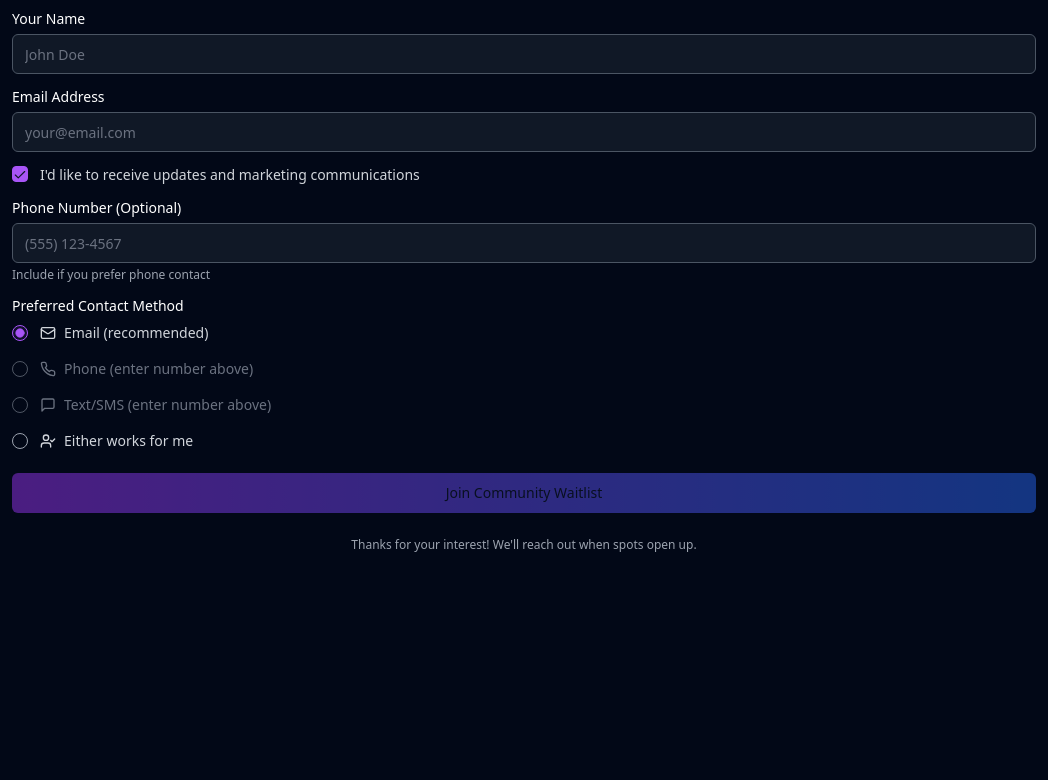
Test: CommunityWaitlistForm › handles database constraint violation error gracefully
Note: Fill out the form
Type "Test User" into the field labelled "Your Name" at {"x": 524, "y": 54}, box [12, 34, 1036, 74]
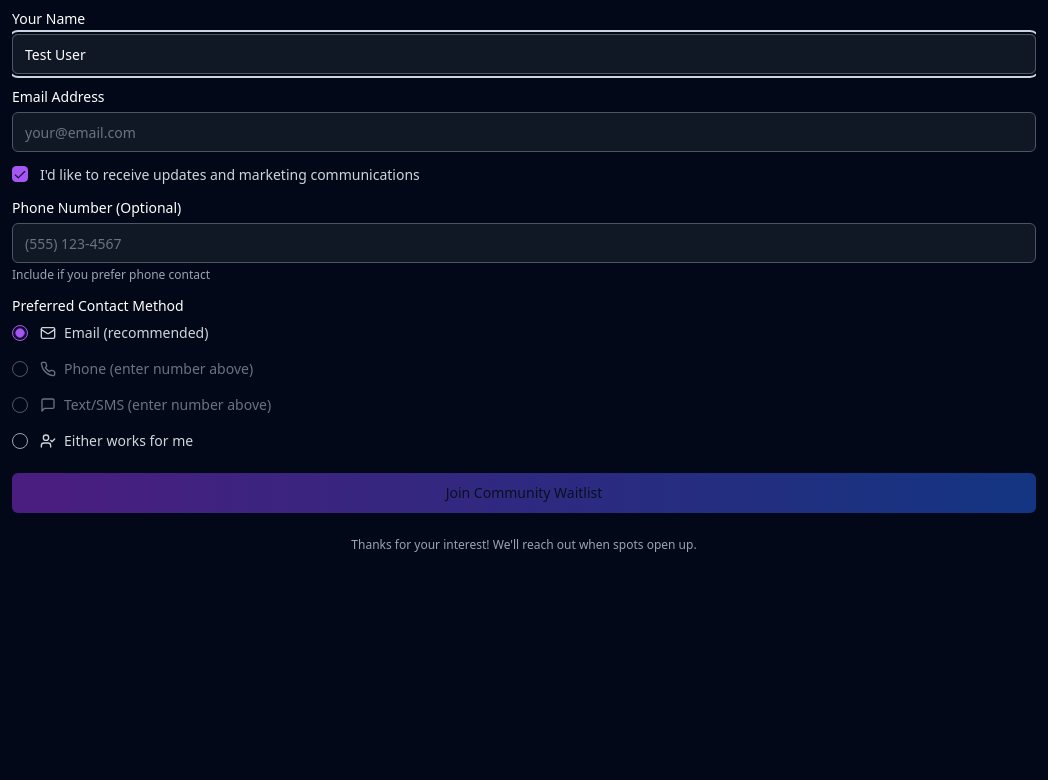
Type "test@example.com" into the field labelled "Email Address" at {"x": 524, "y": 132}, box [12, 112, 1036, 152]
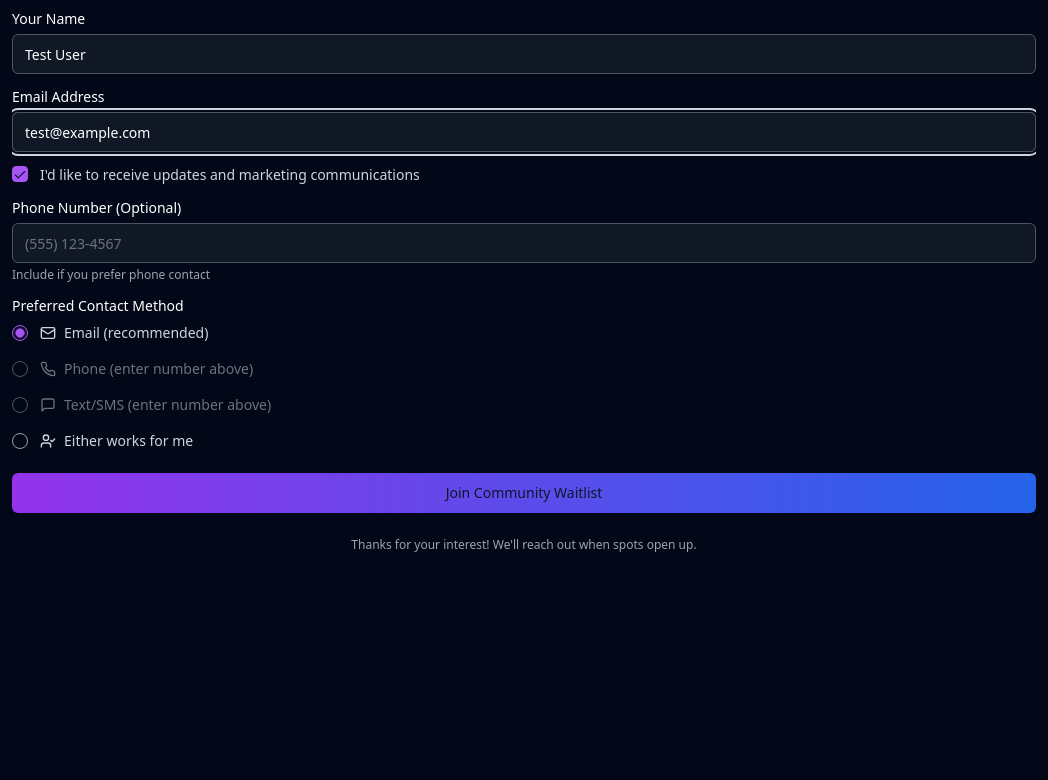
Note: Submit the form
Click the button "Join Community Waitlist" at {"x": 524, "y": 493}, box [12, 473, 1036, 513]
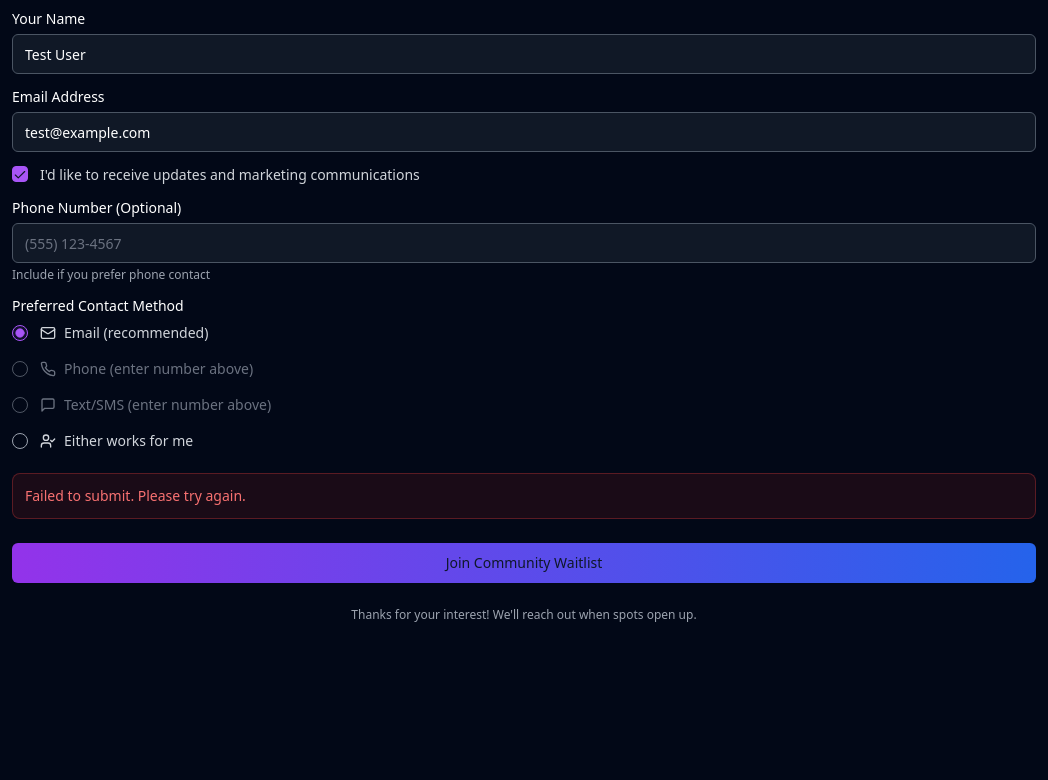
Expected: the text "Failed to submit. Please try again." is shown, [12, 473, 1036, 519]
